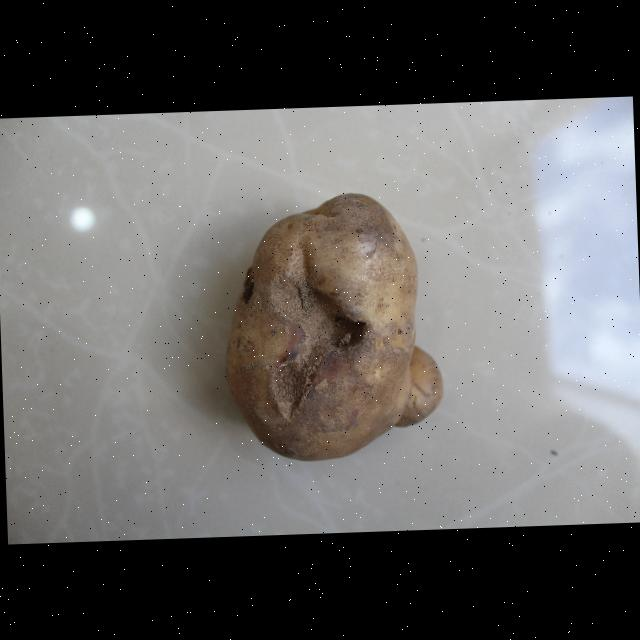Damaged potato: (190, 172, 423, 452)
